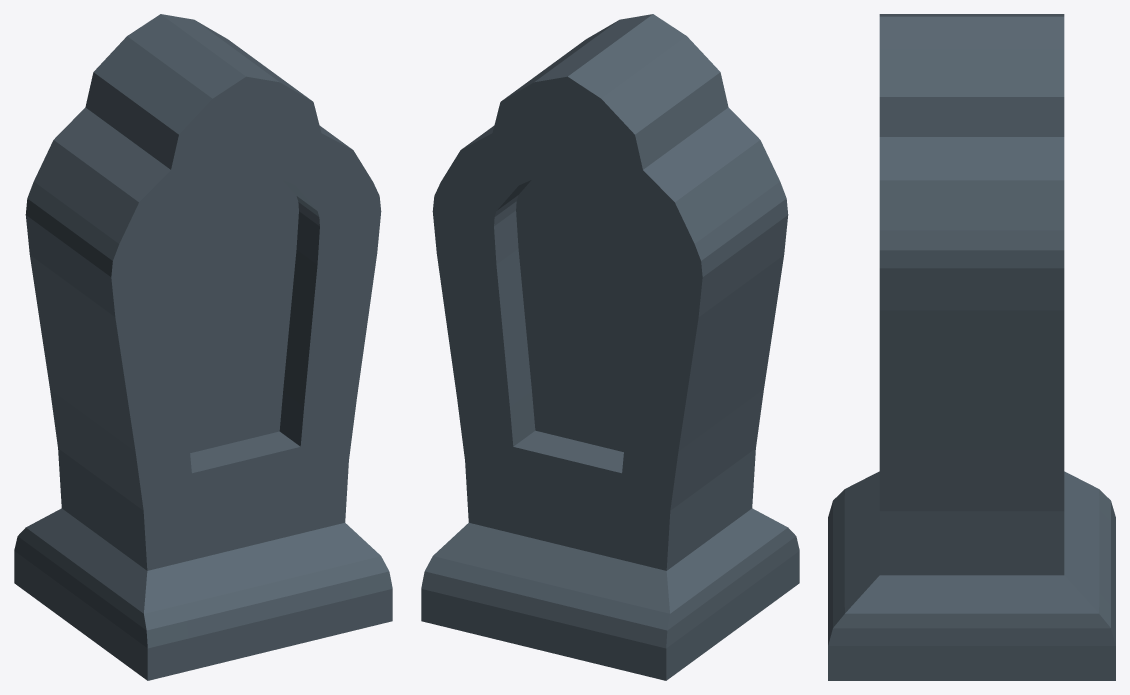
The model's file is grave_v3.fbx.
3 renders of one model, left to right at view 1: azimuth 30°, elevation 25°; view 2: azimuth 150°, elevation 25°; view 3: azimuth 270°, elevation 25°, orthographic. The views are drawn at different scales.
Visible parts, largest first — view 1: GRAVE3; view 2: GRAVE3; view 3: GRAVE3.
Part boxes in pixels (bbox=[...]): GRAVE3: bbox=[14, 14, 392, 680]; GRAVE3: bbox=[421, 14, 799, 680]; GRAVE3: bbox=[828, 14, 1115, 680].
Size of the model in its own units: 0.2556 by 0.5039 by 0.2191.
